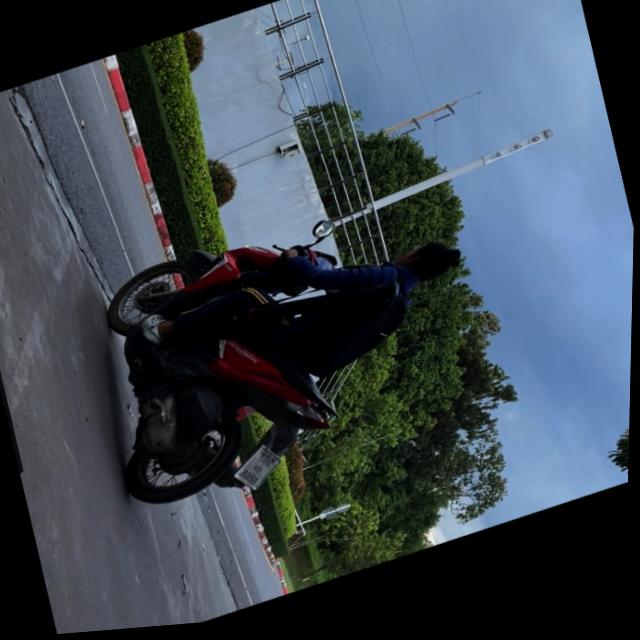seatbelt: (389, 238, 468, 299)
